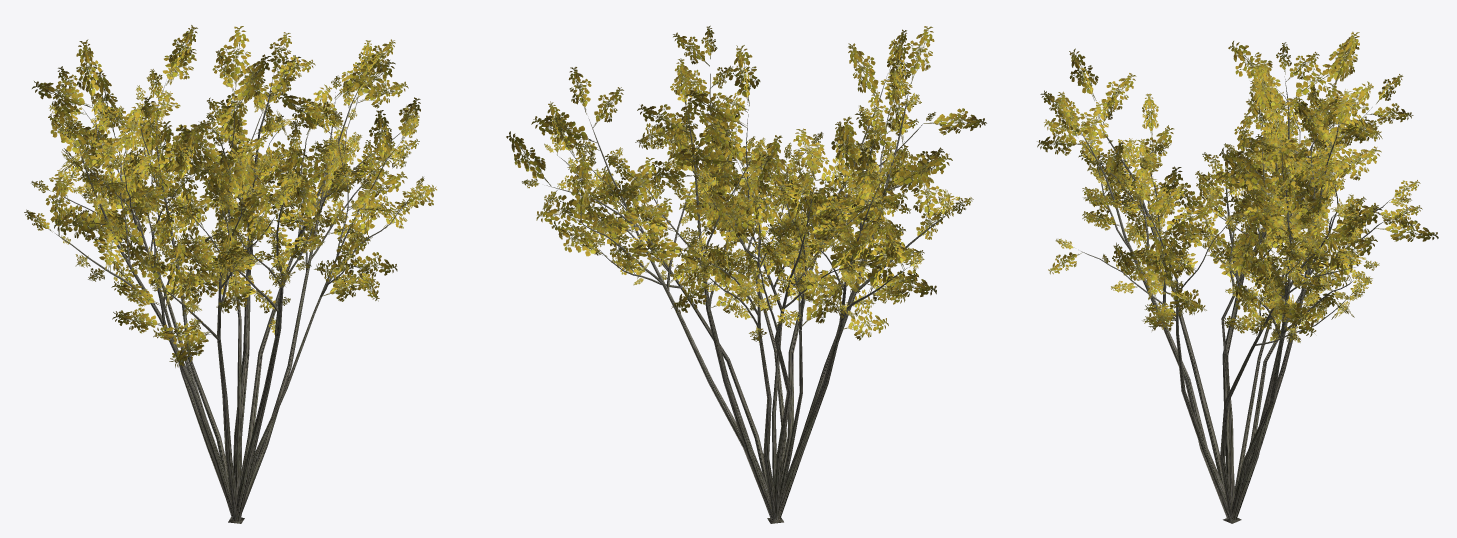
Rendered from tree_LOD0.glb.
3 views of the same model, side by side, from view 1: azimuth 30°, elevation 25°; view 2: azimuth 150°, elevation 25°; view 3: azimuth 270°, elevation 25° (orthographic). The views are drawn at different scales.
Parts seen in each view (by area): view 1: Leaves_LOD0, Branches_LOD0; view 2: Leaves_LOD0, Branches_LOD0; view 3: Leaves_LOD0, Branches_LOD0.
Part boxes in pixels (<box>): Leaves_LOD0: <box>24,25,436,367</box>; Branches_LOD0: <box>54,75,408,523</box>; Leaves_LOD0: <box>506,25,986,343</box>; Branches_LOD0: <box>546,73,945,523</box>; Leaves_LOD0: <box>1037,31,1438,342</box>; Branches_LOD0: <box>1075,76,1389,523</box>.
Size of the model in its own units: 28.18 by 31.1 by 25.15.
Materials: 2 (2 with a texture image).
